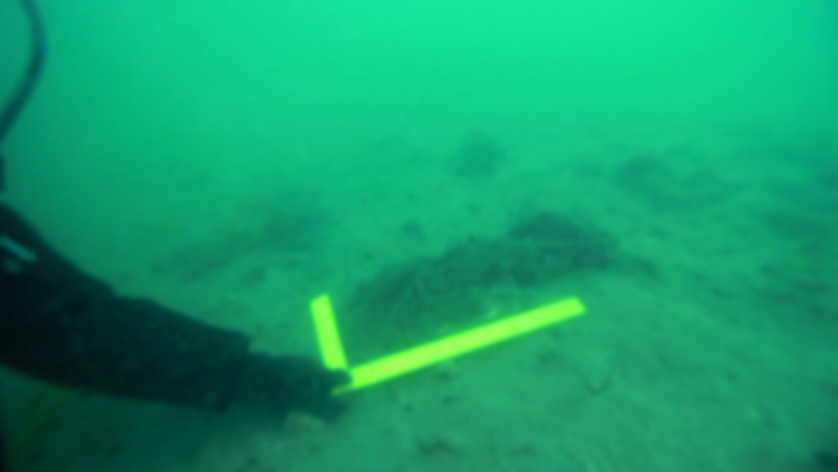fishing net: (328, 209, 646, 342)
